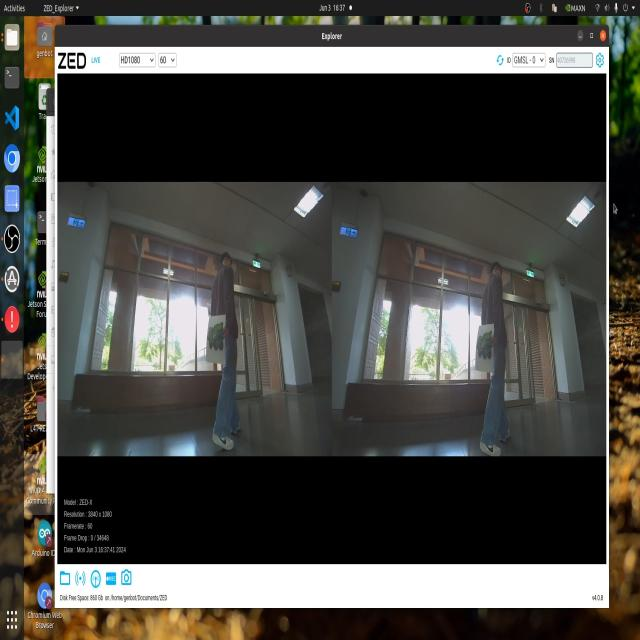green: (202, 319, 231, 357), (477, 323, 493, 364)
